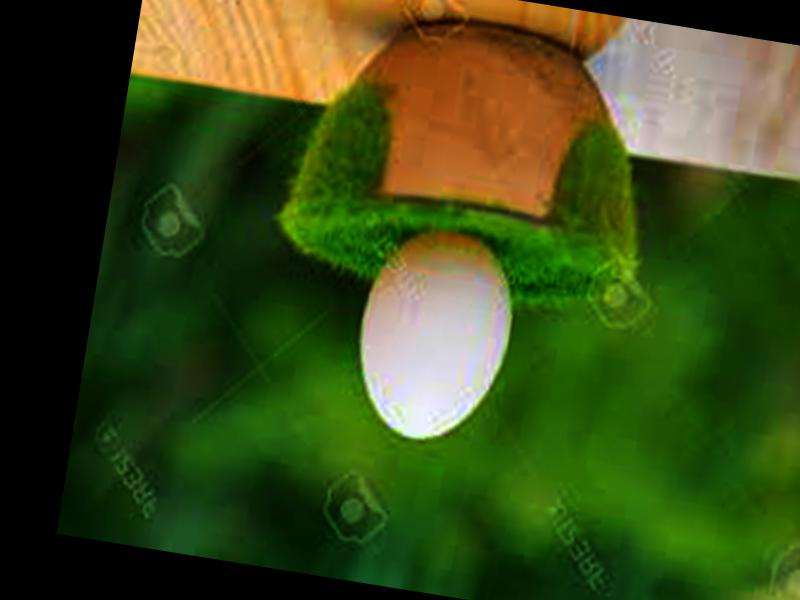Eggs: (348, 220, 527, 447)
